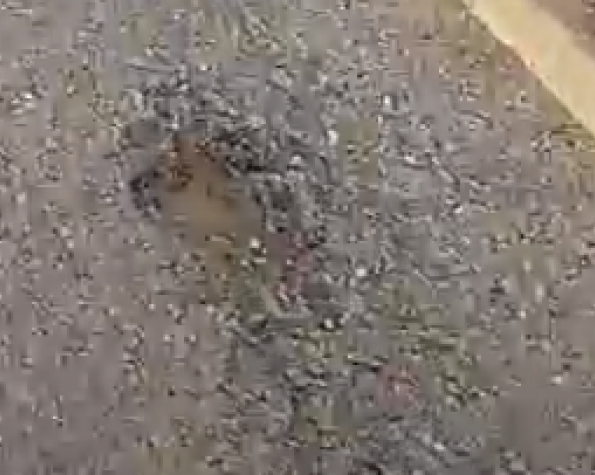Berlubang: (92, 94, 353, 322)
